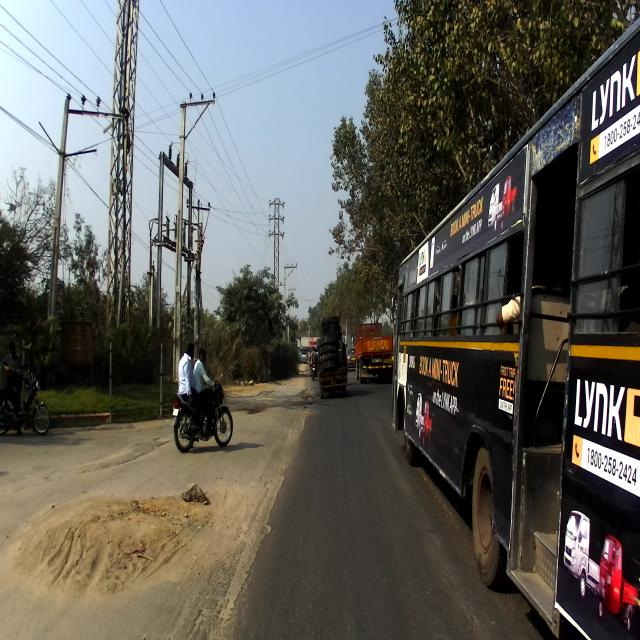bus ahead at: (388, 14, 638, 635)
motorcycle ahead at: (169, 378, 233, 454)
truck ahead at: (316, 309, 349, 403)
